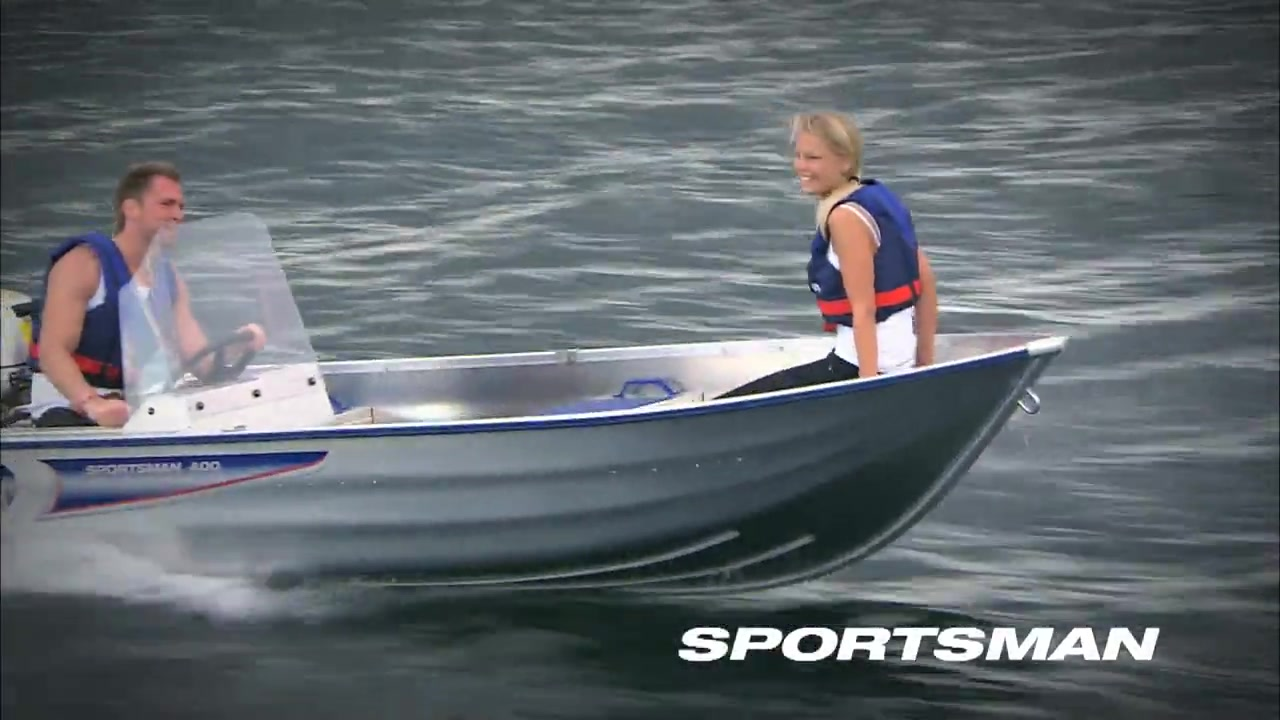boat: (1, 211, 1074, 620)
